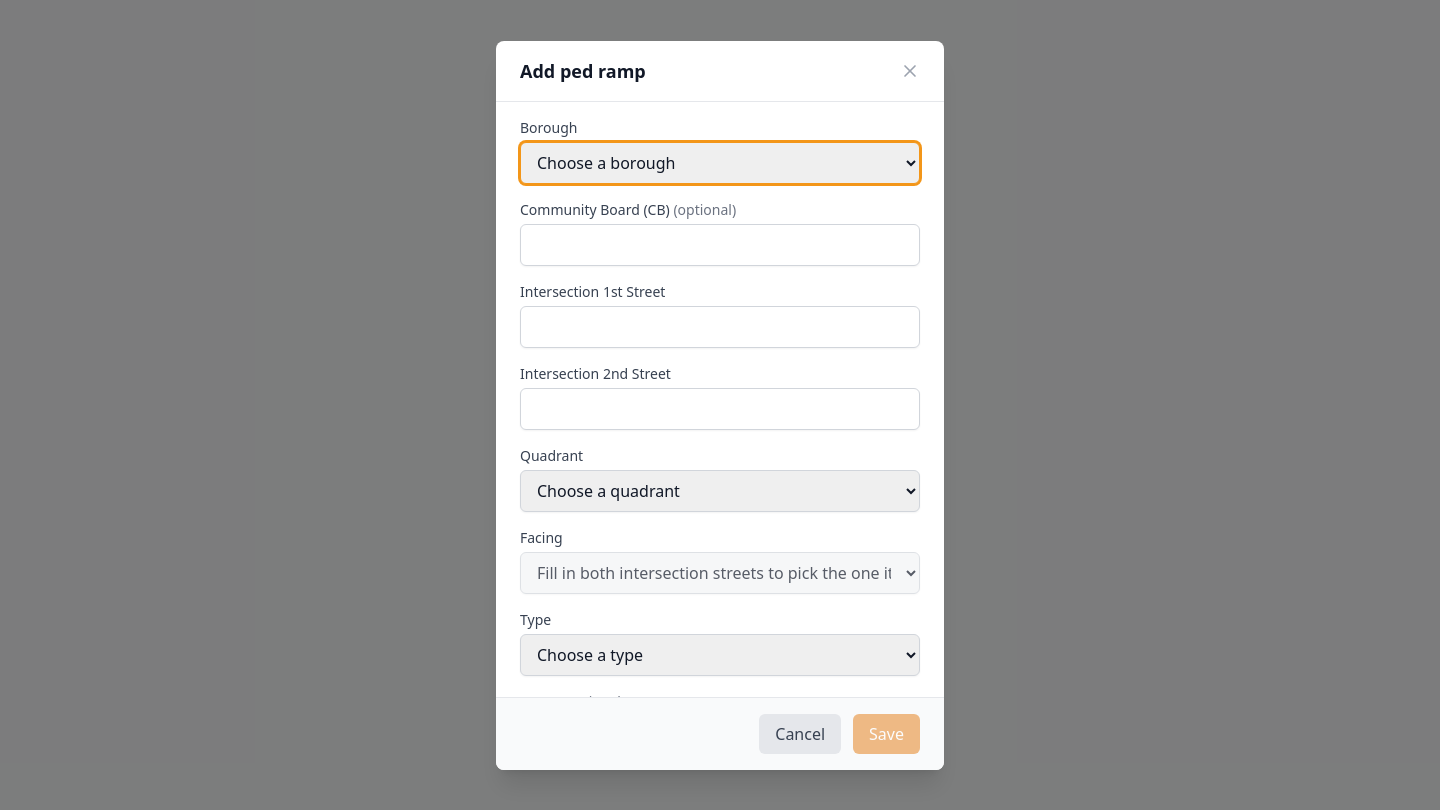
Test case: PropertyFormModal — adding a ped ramp › offers Facing by the two street names only once both are filled
Expected: the dropdown labelled "Facing" is disabled, [520,552,920,594]
Type "Main St" into the field labelled "Intersection 1st Street" at (720,326), box [520,306,920,348]
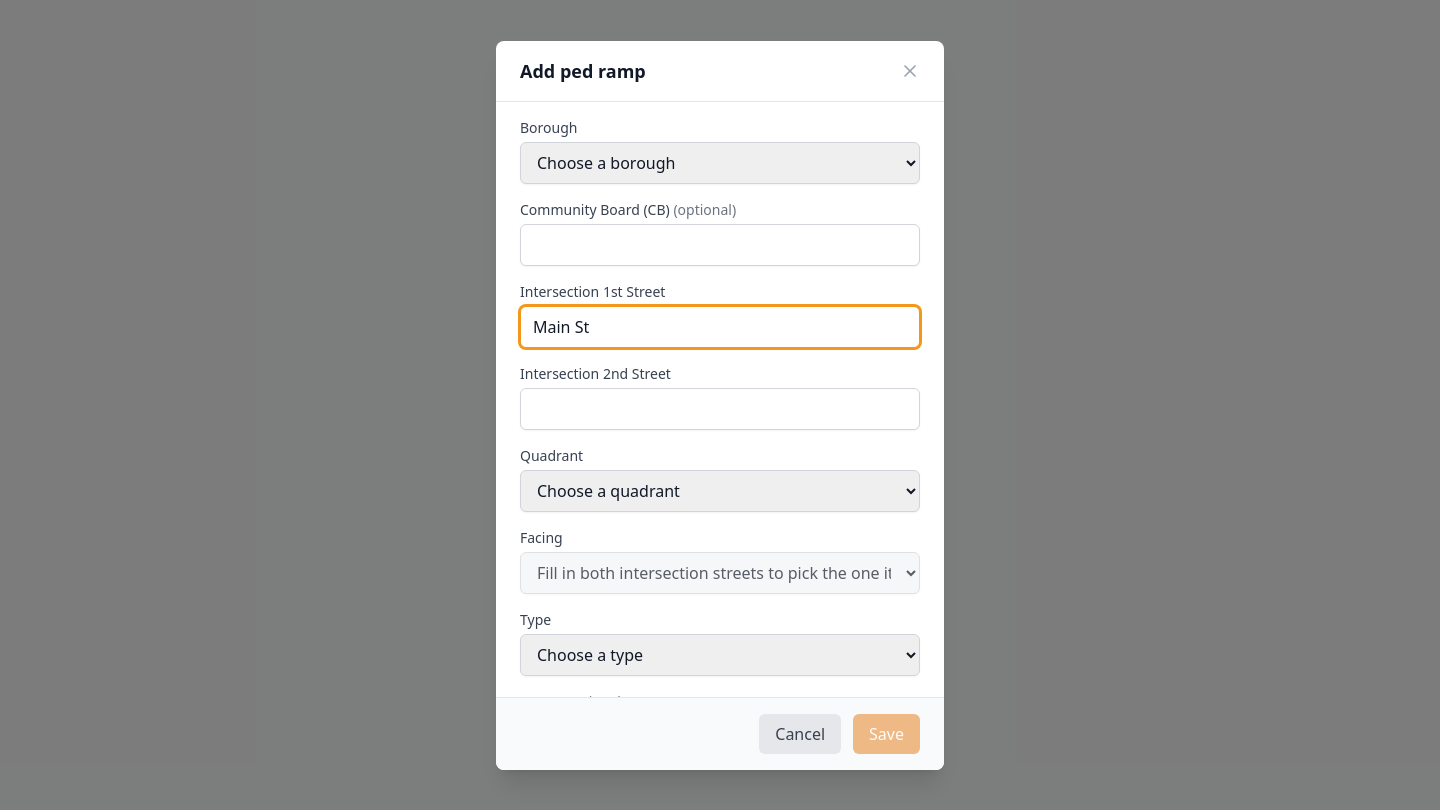
Expected: the dropdown labelled "Facing" is disabled, [520,552,920,594]
Type "37th Ave" into the field labelled "Intersection 2nd Street" at (720,408), box [520,388,920,430]
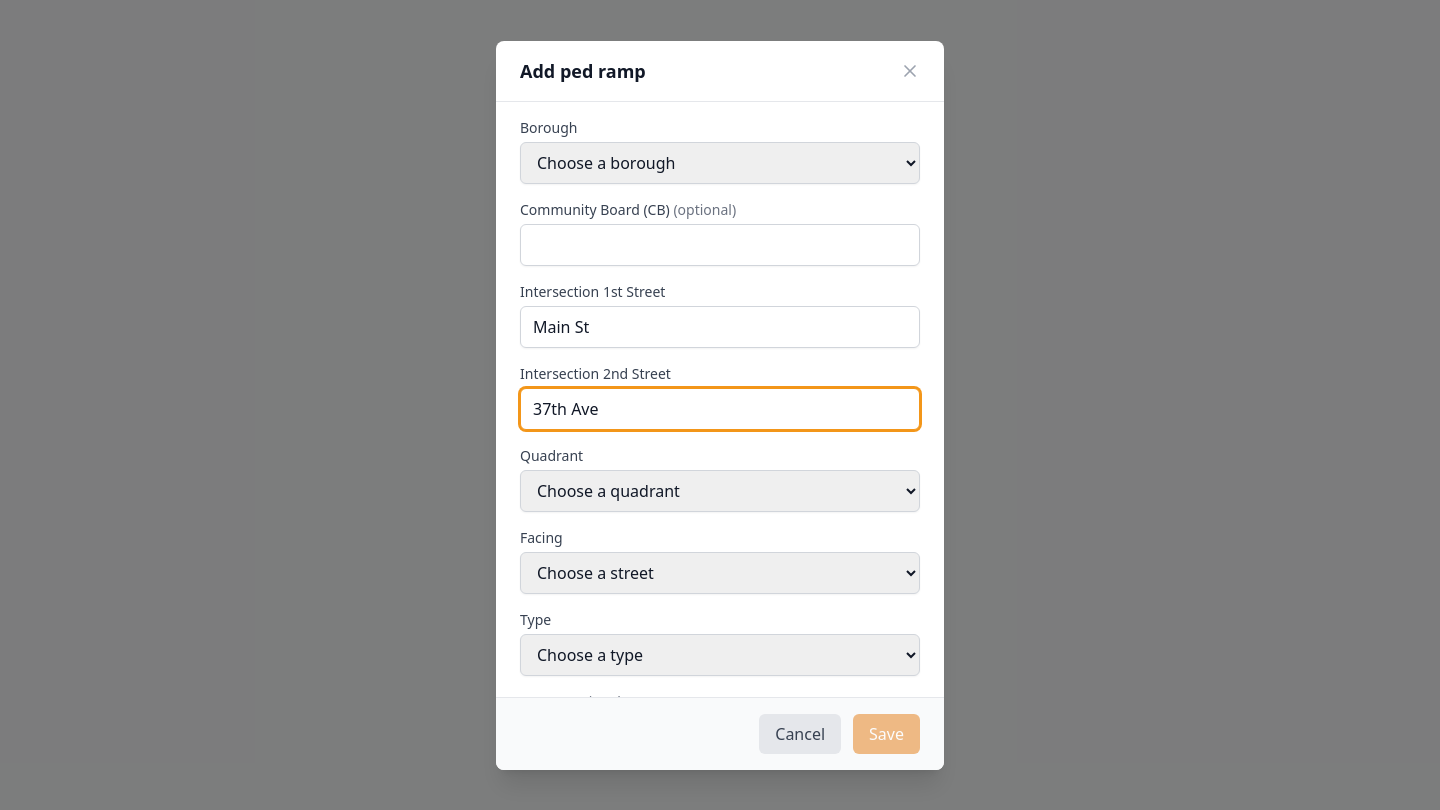
Result: the dropdown labelled "Facing" is enabled at [520,552,920,594]
